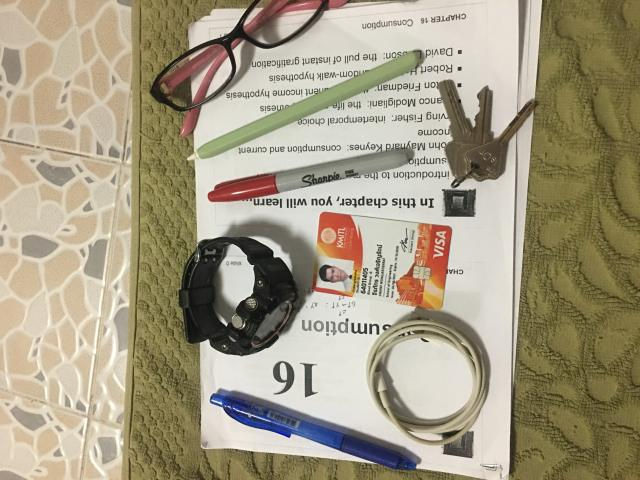Glasses: (151, 0, 329, 122)
Keys: (438, 80, 535, 188)
Pen: (210, 390, 416, 470), (208, 149, 414, 202)
Watch: (179, 238, 300, 356)
paper: (188, 0, 543, 479)
wire: (366, 320, 486, 445)
